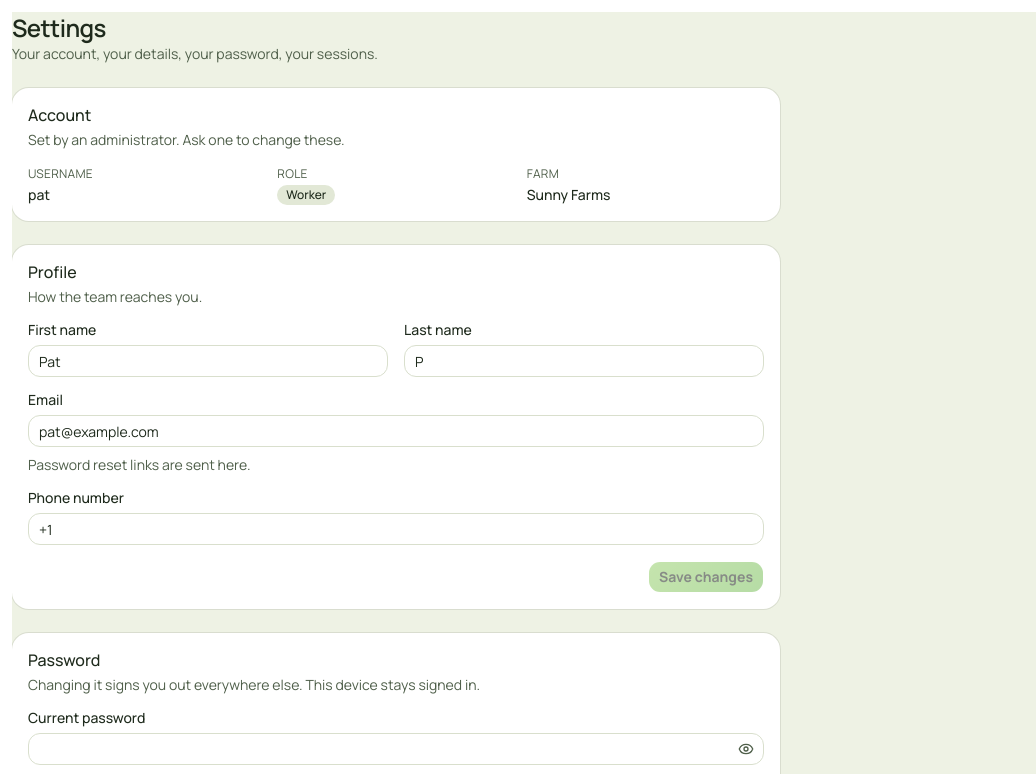
SettingsPage › asks for the current password only when the email changes, and sends it along
The width and height of the screenshot is (1036, 774).
Later steps or results of the test are not shown.
Check: the text "Required to change the email" is not shown
Replace the text in the field labelled "Email" with "pat2@example.com" at (396, 431), box x1=28 y1=415 x2=764 y2=447
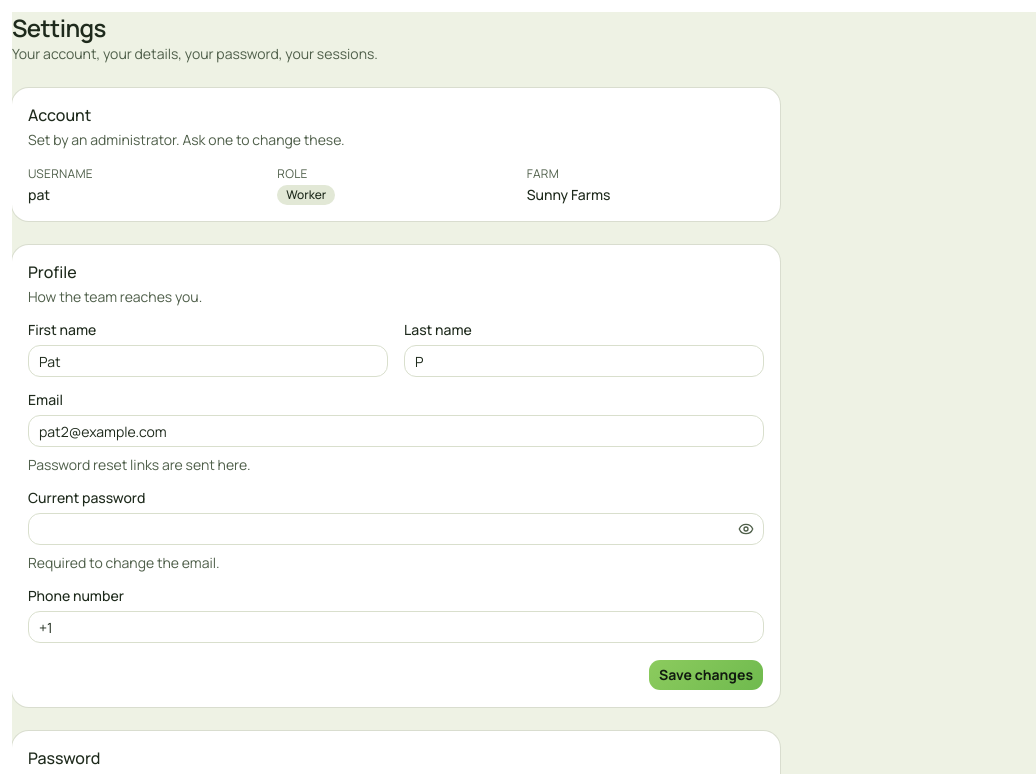
Click the button "Save changes" at (706, 675), box x1=648 y1=659 x2=764 y2=691
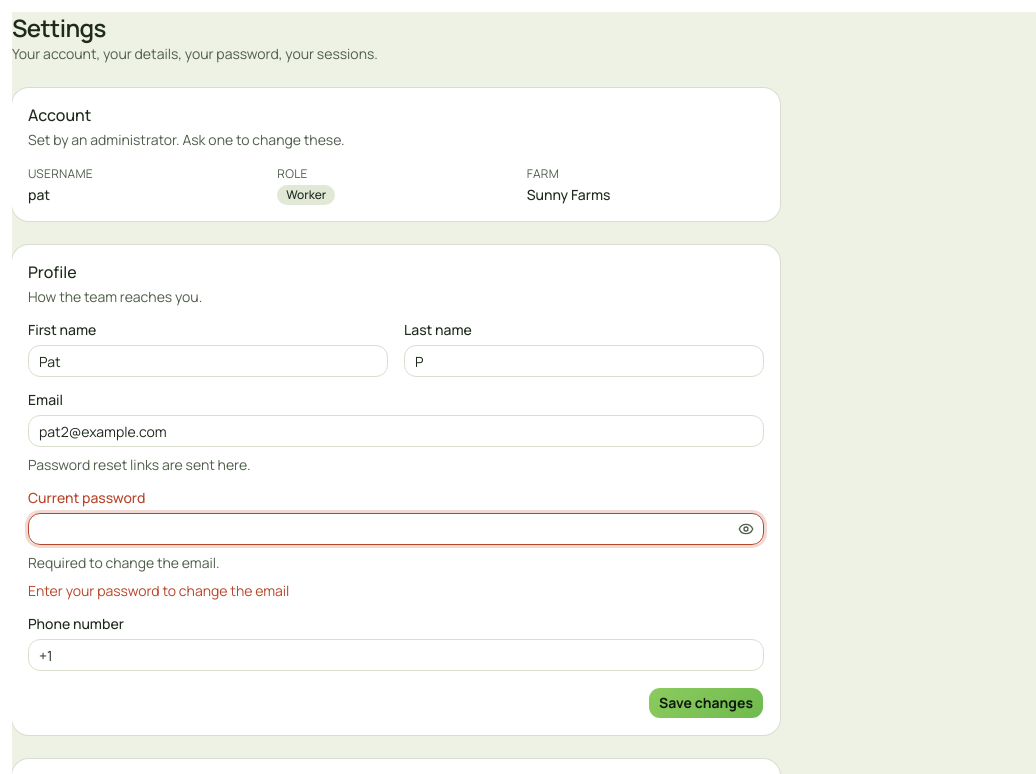
Check: the text "Enter your password to change the email" is shown, box x1=28 y1=581 x2=289 y2=600
